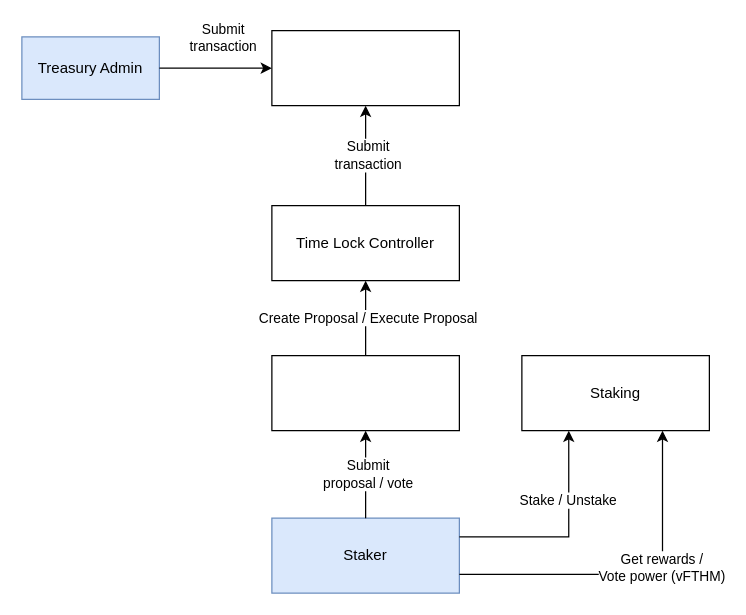
The diagram is 746 pixels wide and 615 high, and some of its shapes have lost their labels. Each missing label, with the box of its shape:
Governor: (271, 354, 459, 431)
Treasury (MultiSig): (271, 29, 459, 106)
